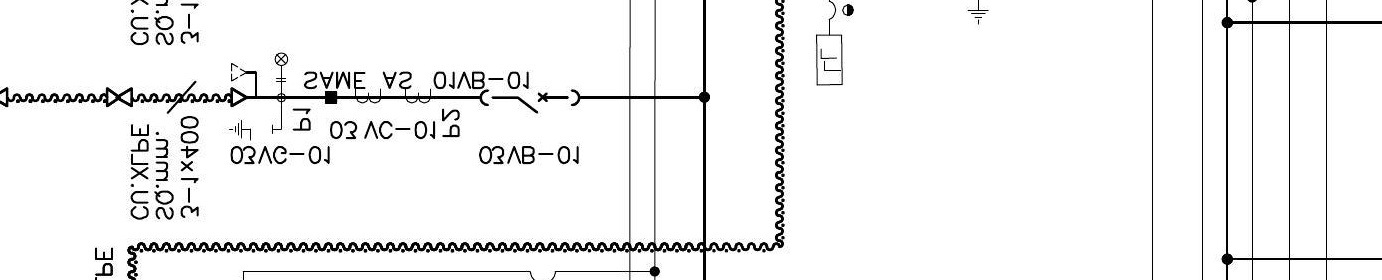22_breaker: (479, 88, 581, 115)
22_gs: (229, 119, 275, 142)
22_ll: (274, 52, 289, 83)
LL: (814, 33, 844, 87)
terminator_splicing_kits: (106, 87, 134, 108)
terminator_w_future: (229, 61, 259, 108)
